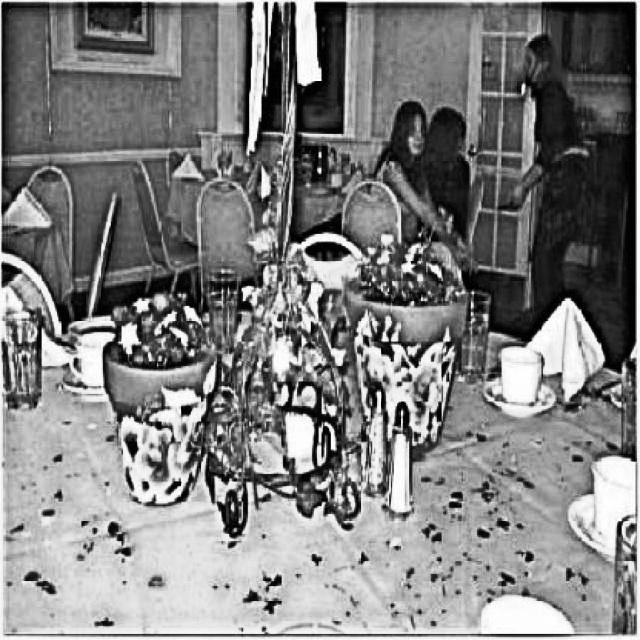Person: (505, 33, 590, 330), (373, 94, 432, 243)
